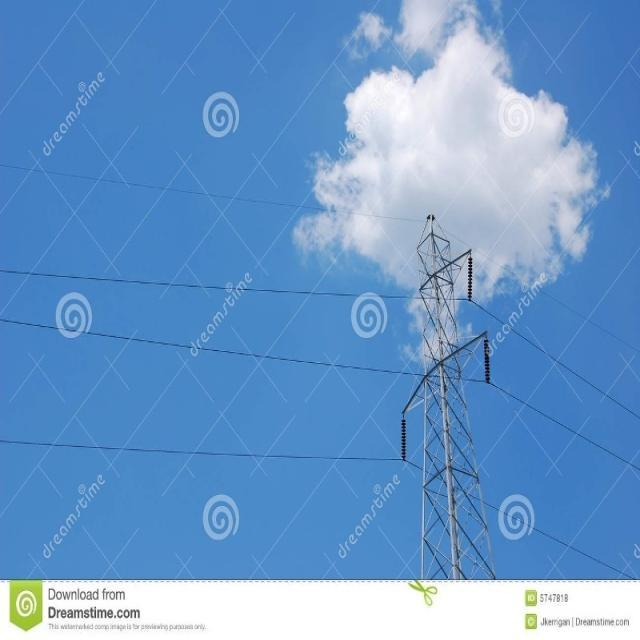non-critical vegetation: (398, 210, 506, 574)
